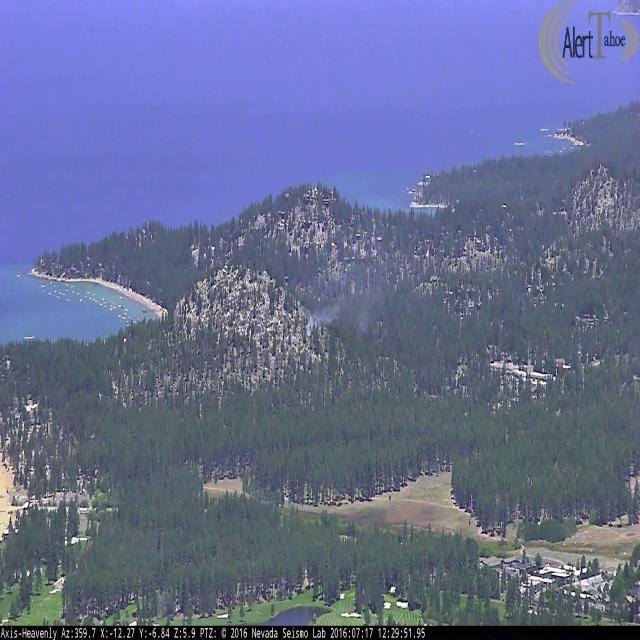smoke: (306, 255, 416, 329)
